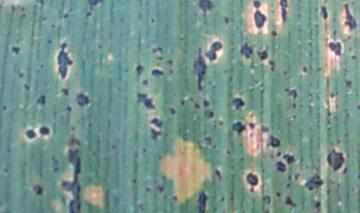tarspot: (61, 148, 84, 213), (54, 39, 73, 81), (192, 47, 208, 93), (325, 145, 346, 172), (134, 91, 158, 113), (343, 4, 358, 33), (207, 37, 224, 62), (303, 173, 324, 191), (251, 9, 268, 30), (325, 39, 344, 57), (246, 170, 260, 194), (195, 190, 209, 213), (239, 40, 254, 61), (29, 181, 47, 198), (74, 90, 90, 109), (278, 1, 290, 26), (194, 1, 215, 15), (280, 87, 301, 101), (147, 127, 164, 144), (230, 119, 247, 135), (229, 96, 247, 111), (254, 47, 271, 62), (272, 159, 289, 173), (283, 194, 298, 209), (148, 115, 164, 129), (148, 67, 166, 79), (212, 165, 224, 183), (267, 133, 281, 148), (132, 59, 144, 76), (319, 3, 329, 23), (65, 136, 83, 147), (22, 127, 36, 141), (38, 123, 51, 138), (83, 1, 102, 11), (341, 77, 355, 90), (155, 183, 168, 196), (9, 43, 23, 55), (34, 94, 48, 106), (256, 123, 272, 133), (58, 86, 71, 98), (202, 134, 214, 147), (21, 81, 33, 93), (268, 28, 280, 40), (60, 10, 72, 22), (312, 199, 323, 212), (202, 109, 215, 120), (127, 176, 141, 186), (150, 44, 165, 53), (259, 195, 274, 204), (63, 103, 74, 115), (85, 120, 96, 132), (247, 119, 257, 132), (300, 62, 308, 78), (44, 36, 55, 47), (83, 10, 95, 20), (216, 195, 229, 204), (201, 98, 212, 108), (273, 189, 283, 200), (190, 101, 201, 111), (268, 62, 279, 72), (166, 66, 177, 76), (140, 76, 150, 87), (222, 15, 231, 27), (1, 101, 10, 113), (291, 170, 303, 179), (169, 194, 182, 202), (143, 185, 153, 195), (7, 4, 17, 14), (251, 1, 262, 10), (36, 61, 47, 70), (328, 90, 337, 101), (284, 179, 293, 190), (165, 57, 175, 66), (177, 97, 187, 106), (168, 105, 176, 116), (224, 147, 232, 158), (16, 70, 24, 80), (349, 54, 359, 62), (37, 1, 46, 9)
